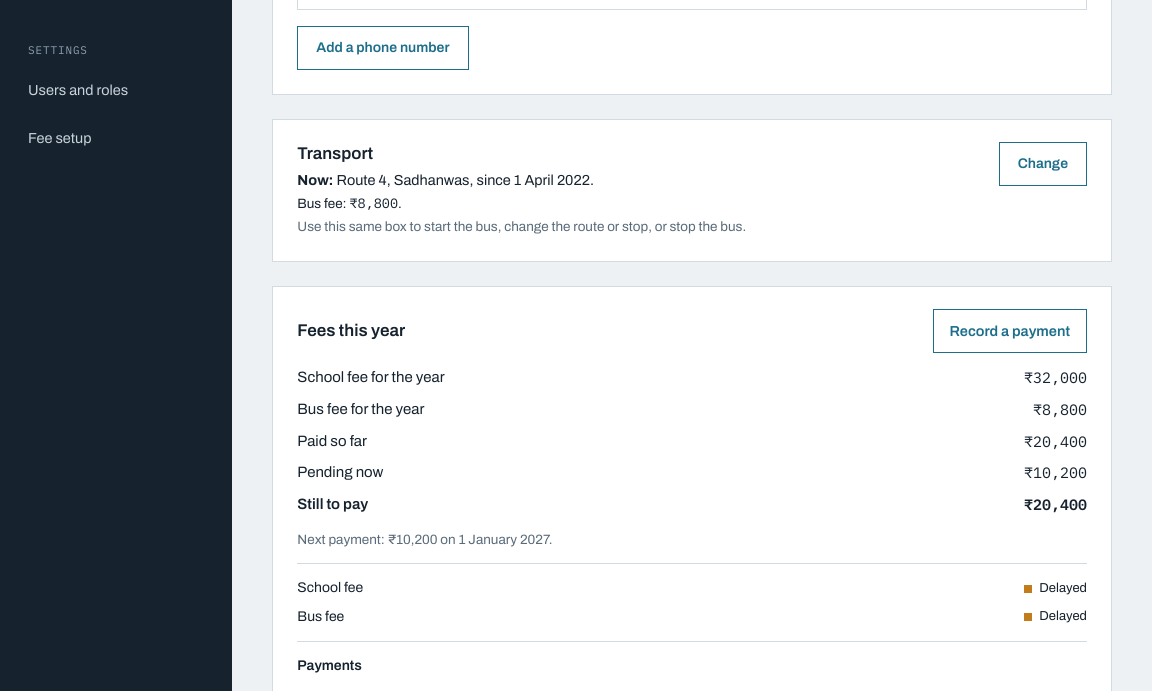
Test: One student: Record a payment › has the bus choices only for a child who has a bus fee
(page scrolled)
Click the button "Record a payment" at (1010, 331), box [932,309,1087,353]
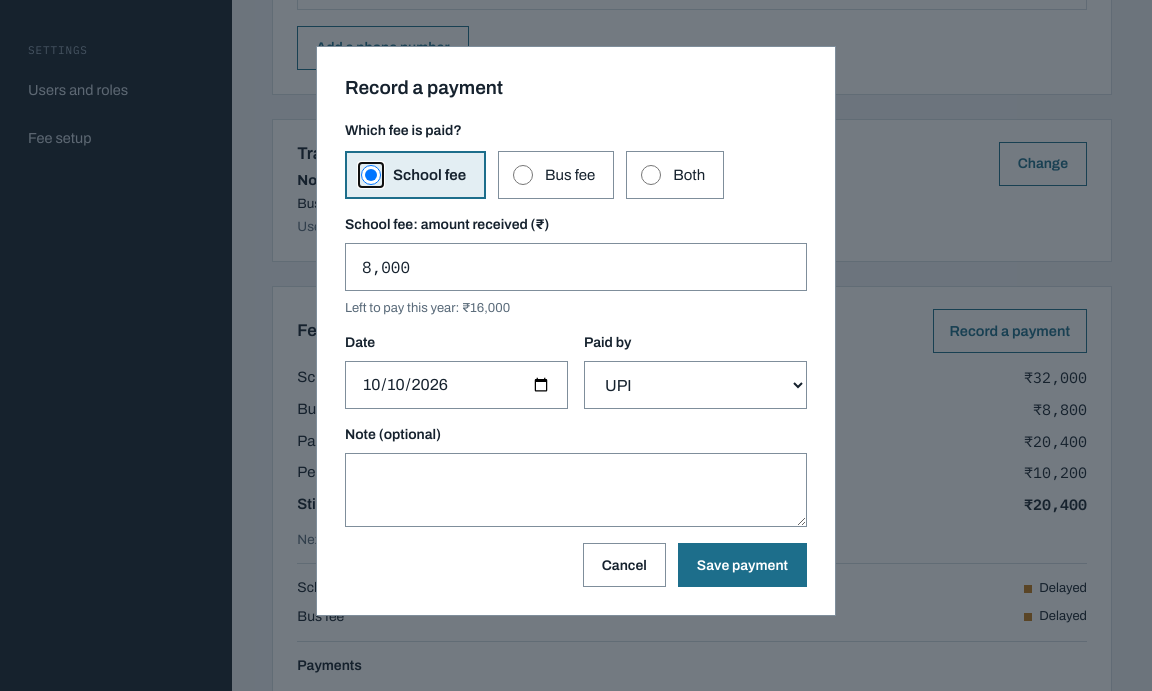
Check: the radio button labelled "Bus fee" is shown, box [513,165,533,185]
Check: the radio button labelled "Both" is shown, box [641,165,661,185]
